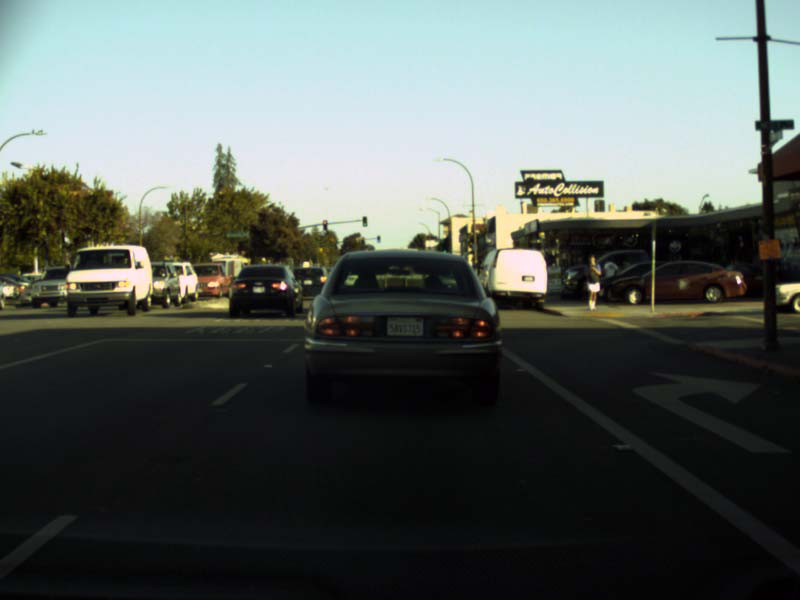Green: (439, 243, 447, 253), (362, 216, 366, 226)
Red: (323, 220, 326, 230)
